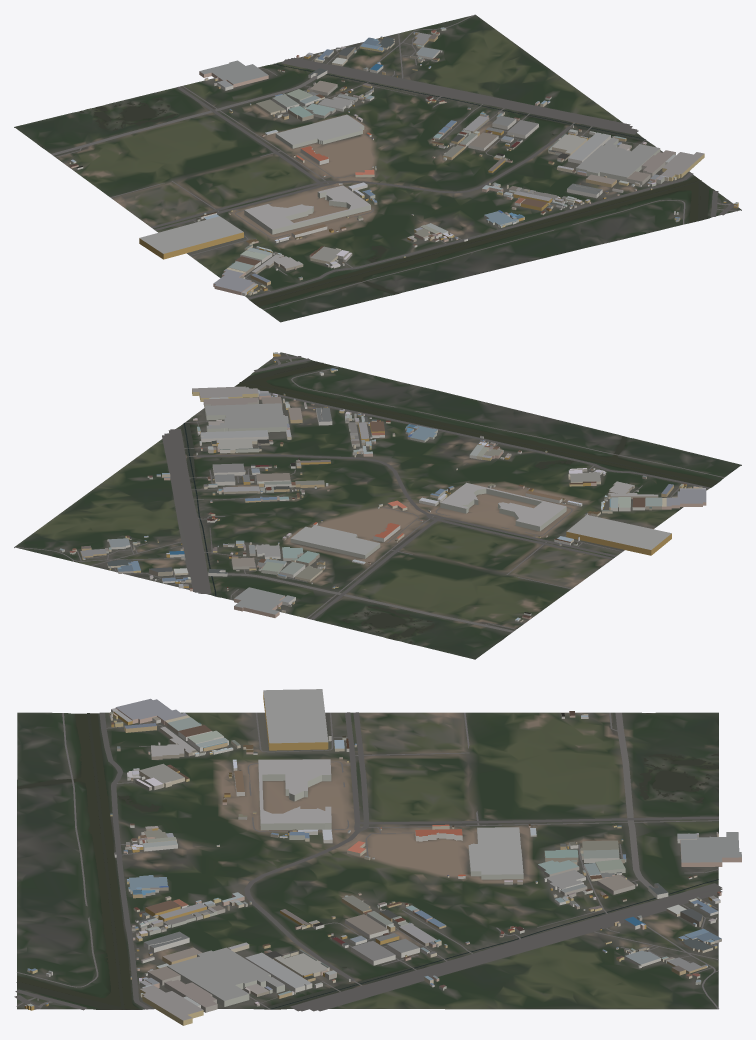
The picture shows the model from 3 angles, top to bottom: view 1: azimuth 30°, elevation 25°; view 2: azimuth 150°, elevation 25°; view 3: azimuth 270°, elevation 25°; orthographic projection. The views are drawn at different scales.
Parts seen in each view (by area): view 1: ground, buildings, roads, water; view 2: ground, buildings, roads, water; view 3: ground, buildings, roads, water.
Boxes of the visible parts, x1,y1,x2,y2 form: ground: (14, 15, 741, 322); buildings: (67, 27, 738, 295); roads: (51, 14, 737, 309); water: (40, 63, 709, 306); ground: (14, 352, 741, 659); buildings: (59, 352, 706, 622); roads: (14, 353, 724, 632); water: (182, 361, 719, 643); ground: (17, 712, 718, 1009); buildings: (24, 689, 741, 1025); roads: (14, 712, 722, 1011); water: (16, 713, 718, 1009).
Size of the model in its own units: 1554 by 21.64 by 1453.
